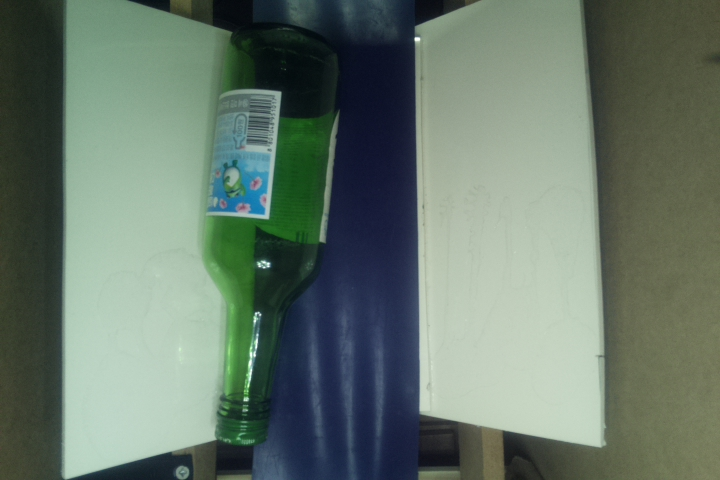soju: (197, 23, 350, 445)
